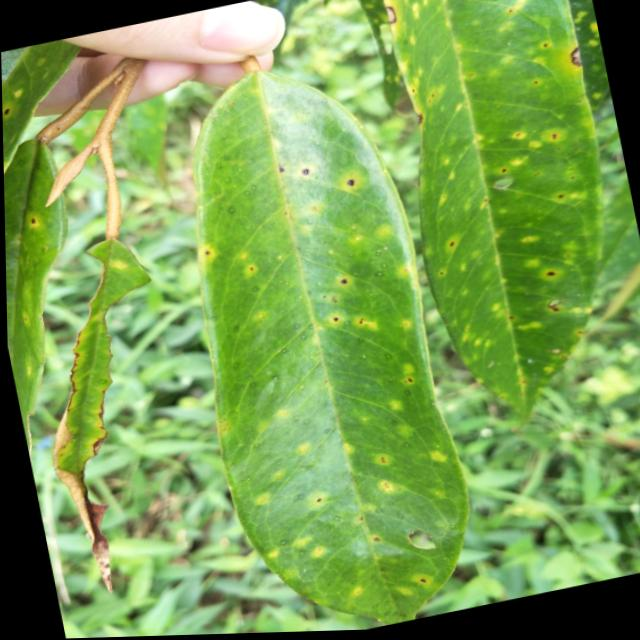Leaf Spot: (309, 258, 394, 358), (338, 442, 426, 517), (193, 228, 277, 298), (283, 151, 364, 212), (378, 368, 432, 432)
